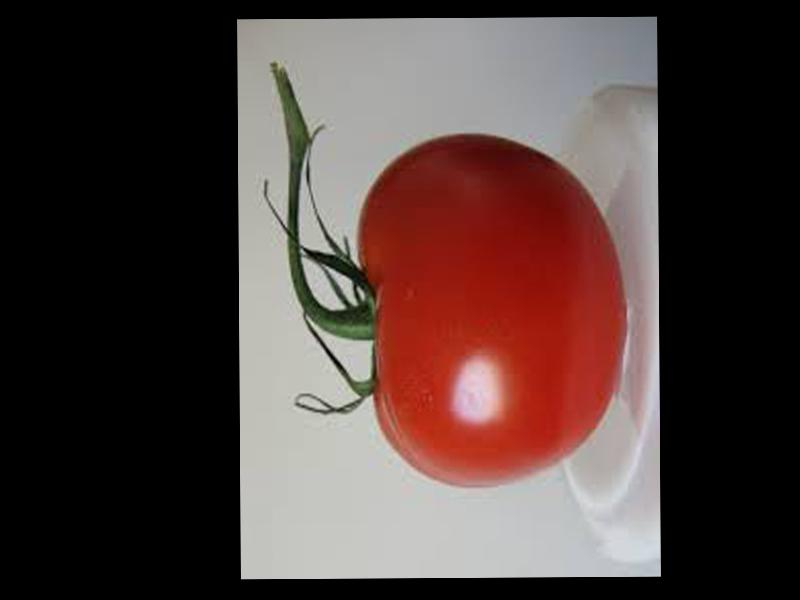Tomato: (357, 132, 626, 487)
